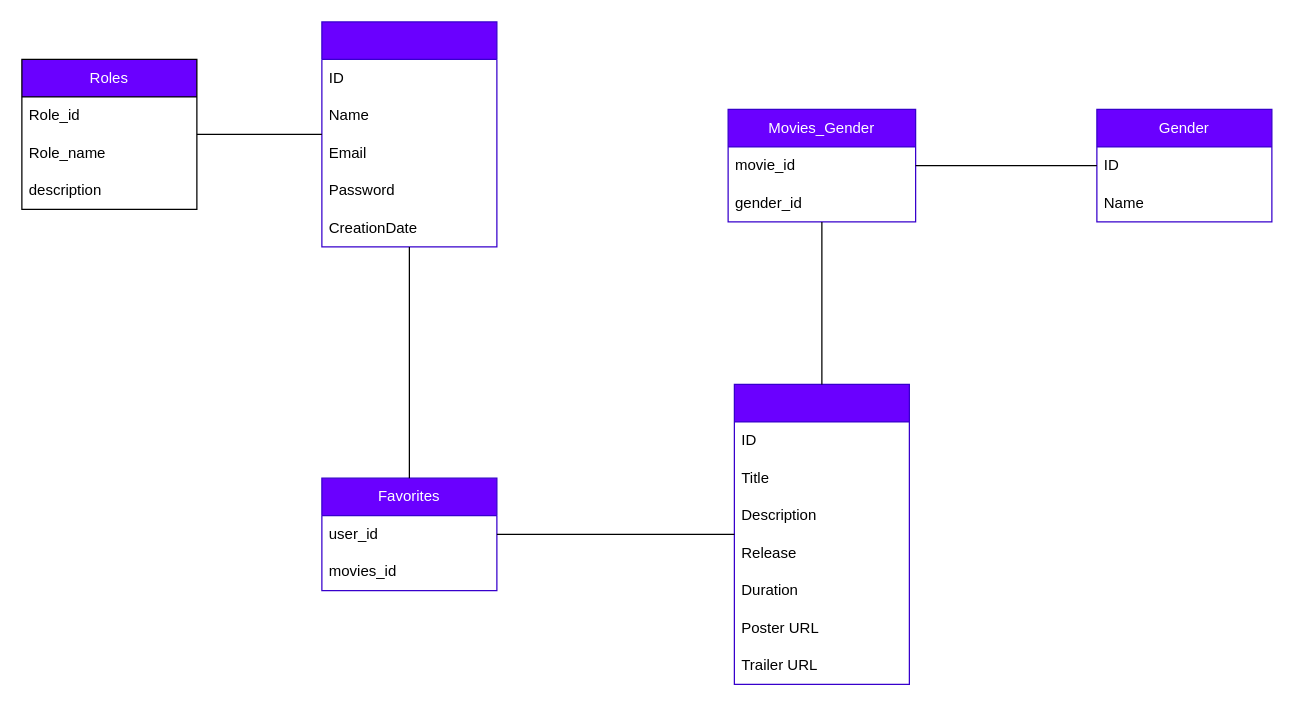
Some shapes in this 1294 by 706 pixel diagram are drawn without their labels. The shapes that lost their labels are listed below. From the top down, each one's box as (x1, y1, x2, y2) in pixels, then its label:
(321, 21, 497, 247): Users
(733, 383, 909, 684): Movie
